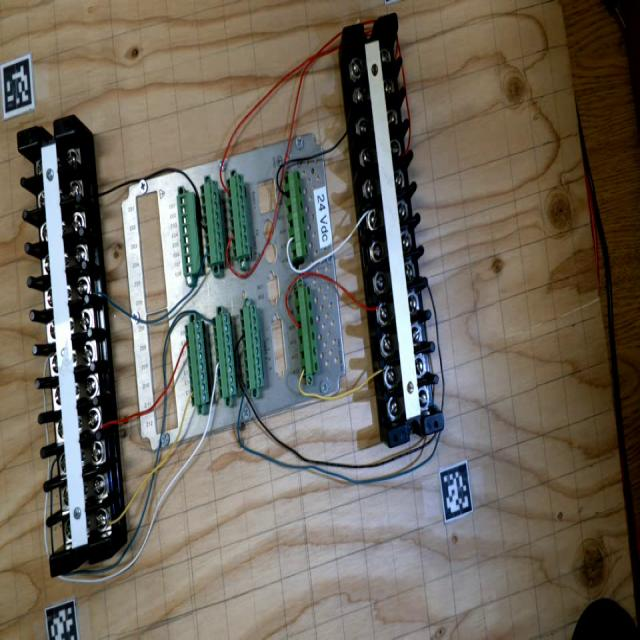Flathead_Block: (342, 13, 445, 447)
Phillips_Block: (16, 115, 113, 577)
Terminal_1: (283, 170, 310, 261), (294, 285, 319, 375)
Terminal_2: (212, 313, 238, 398), (200, 179, 225, 266), (226, 173, 251, 259), (239, 304, 264, 390), (185, 320, 209, 406)
